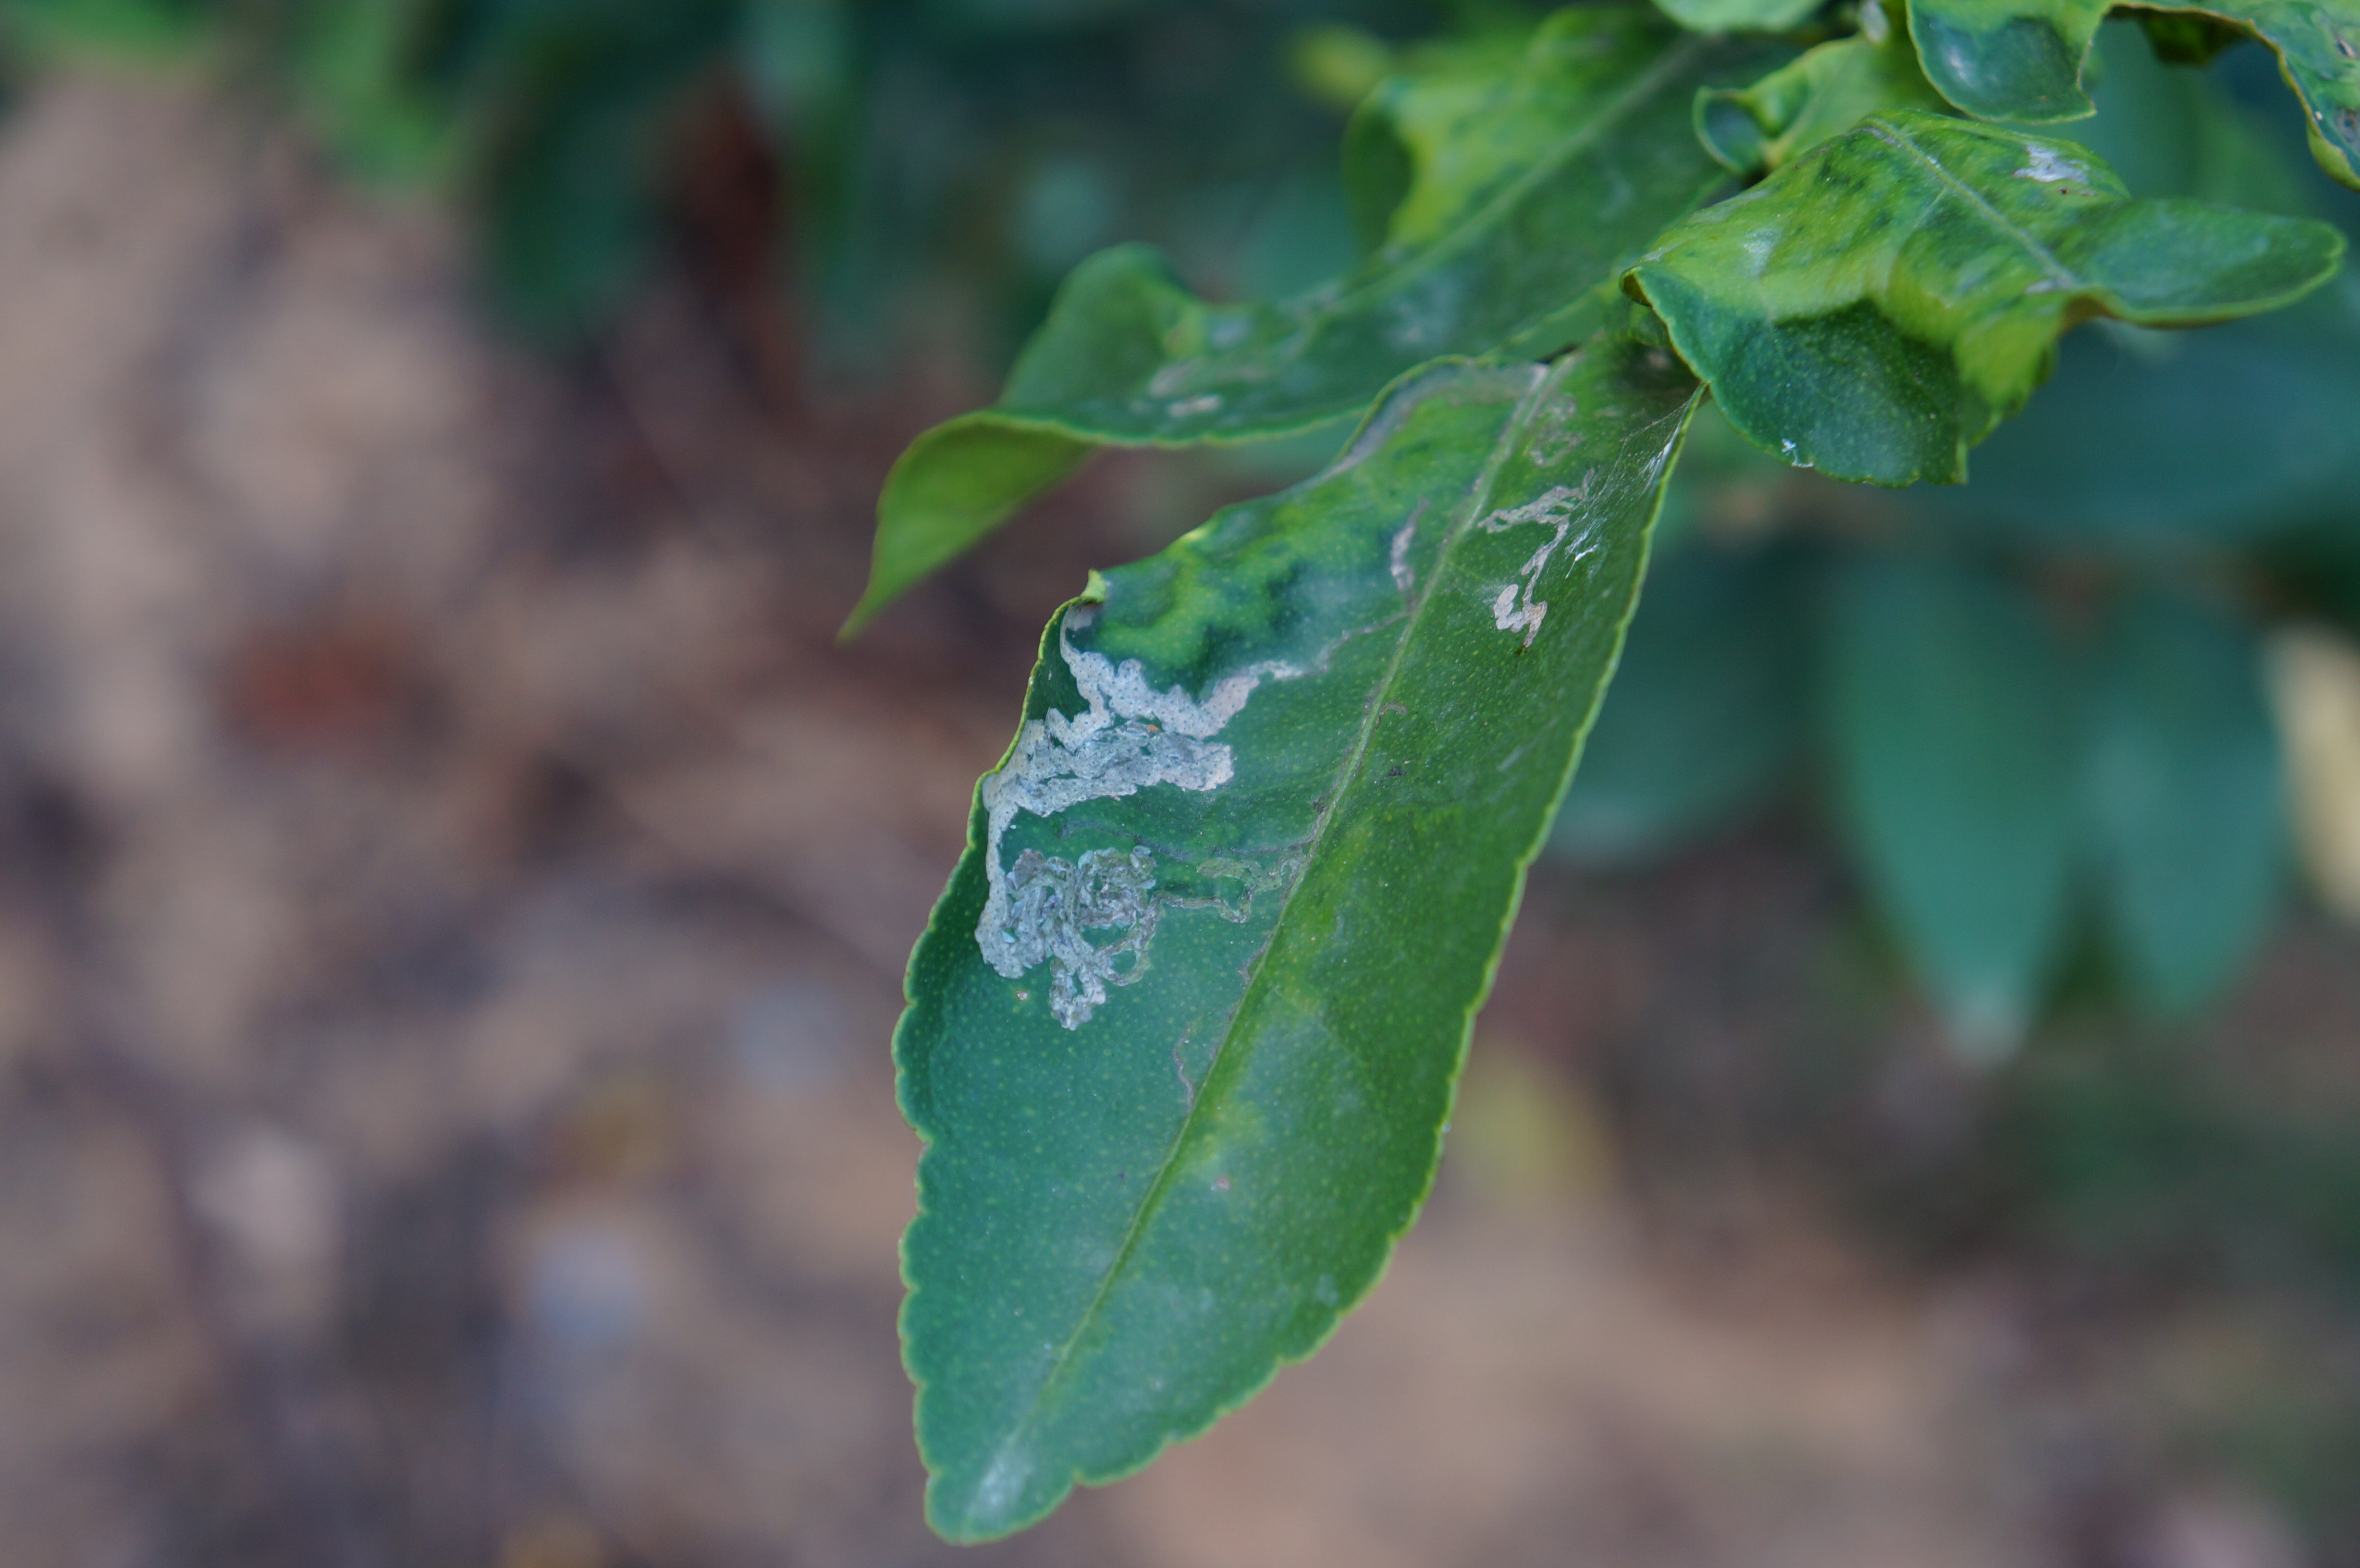damage: (932, 579, 1351, 1052), (1463, 444, 1622, 677)
